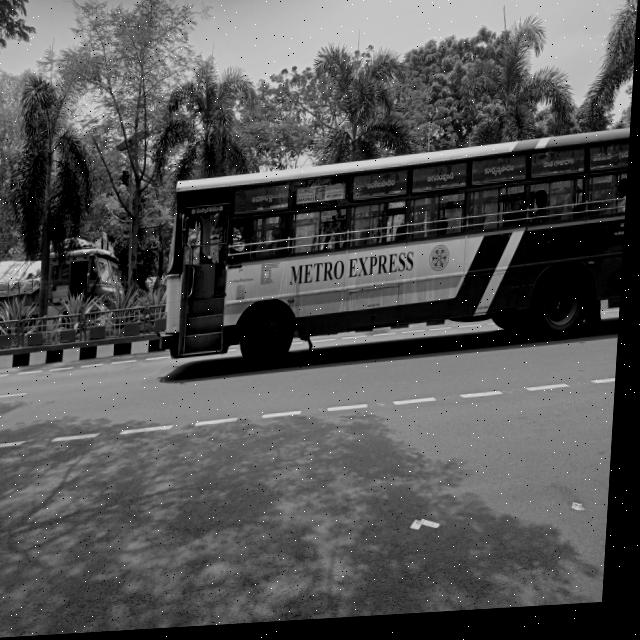bus: (153, 125, 633, 380)
